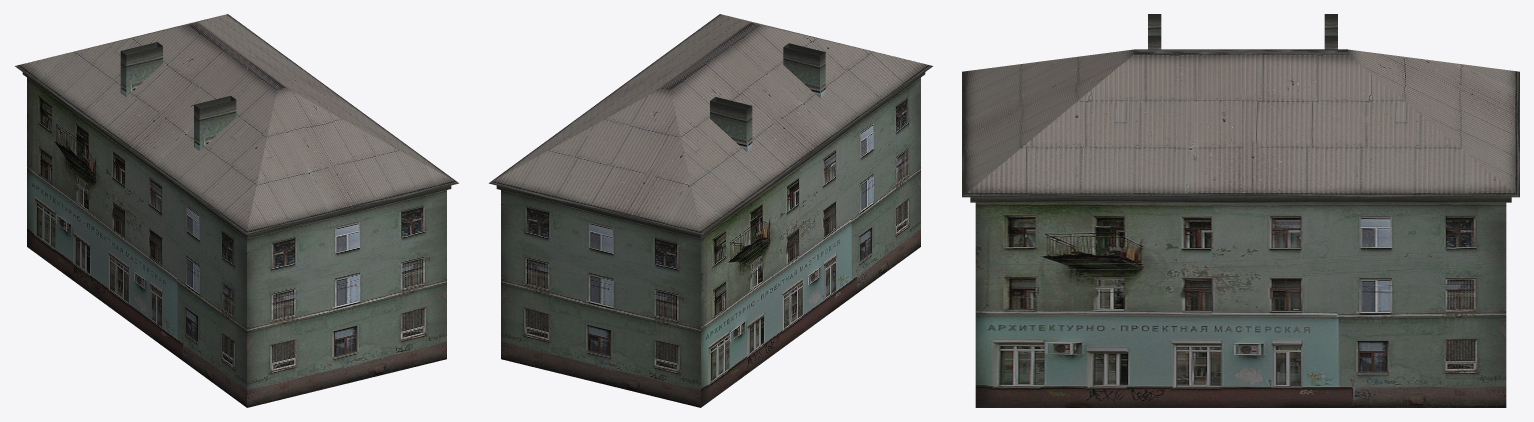
Rendered from sibir_dom_3et2.FBX.
3 renders of one model, left to right at view 1: azimuth 30°, elevation 25°; view 2: azimuth 150°, elevation 25°; view 3: azimuth 270°, elevation 25°, orthographic. The views are drawn at different scales.
Visible parts, largest first — view 1: sibir_dom_3et2; view 2: sibir_dom_3et2; view 3: sibir_dom_3et2.
Part boxes in pixels (x1,y1,x2,y2): sibir_dom_3et2: [15, 14, 458, 407]; sibir_dom_3et2: [489, 14, 932, 407]; sibir_dom_3et2: [962, 14, 1519, 407].
Bounding box in the file's own units: 10.27 × 19.29 × 11.34.
